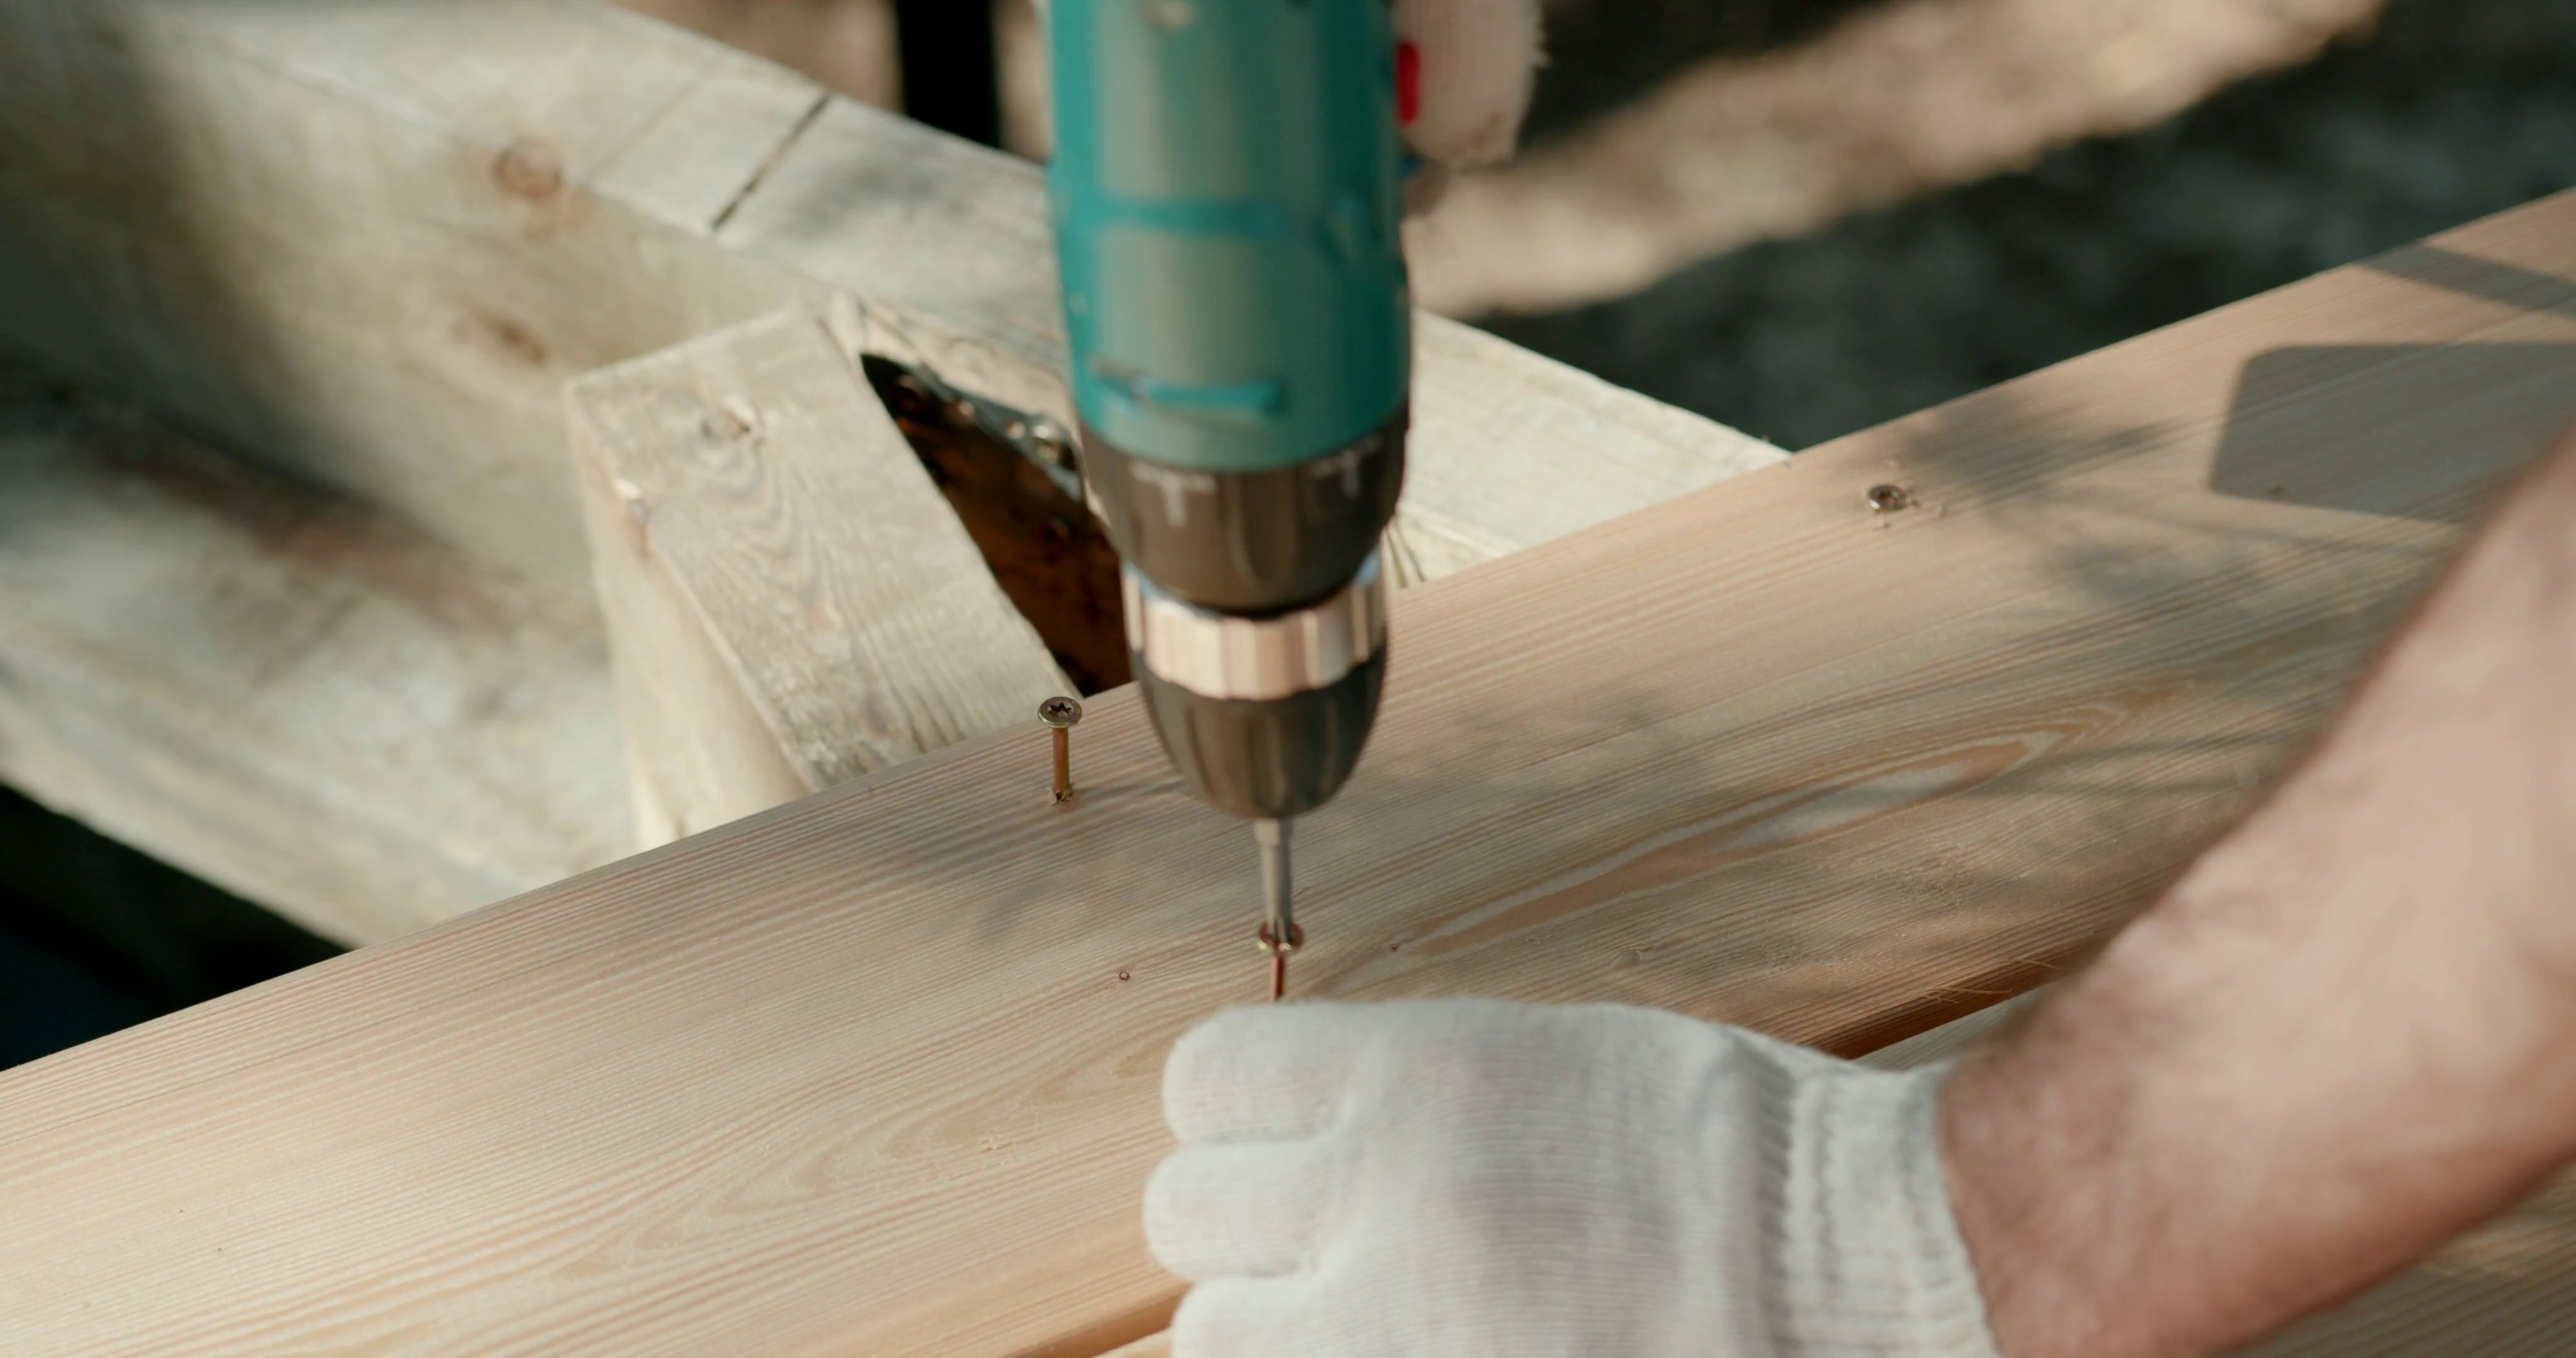driller: (1034, 2, 1435, 939)
